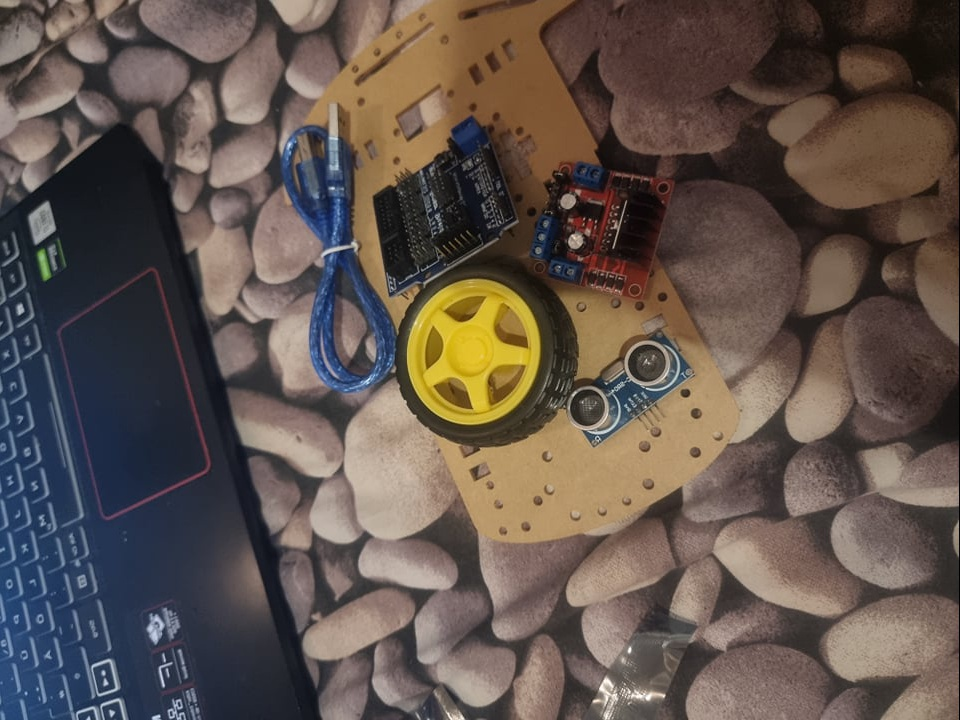5V EXPANSION: (375, 116, 523, 298)
MOTOR: (539, 157, 673, 298)
SENSOR: (564, 334, 698, 443)
